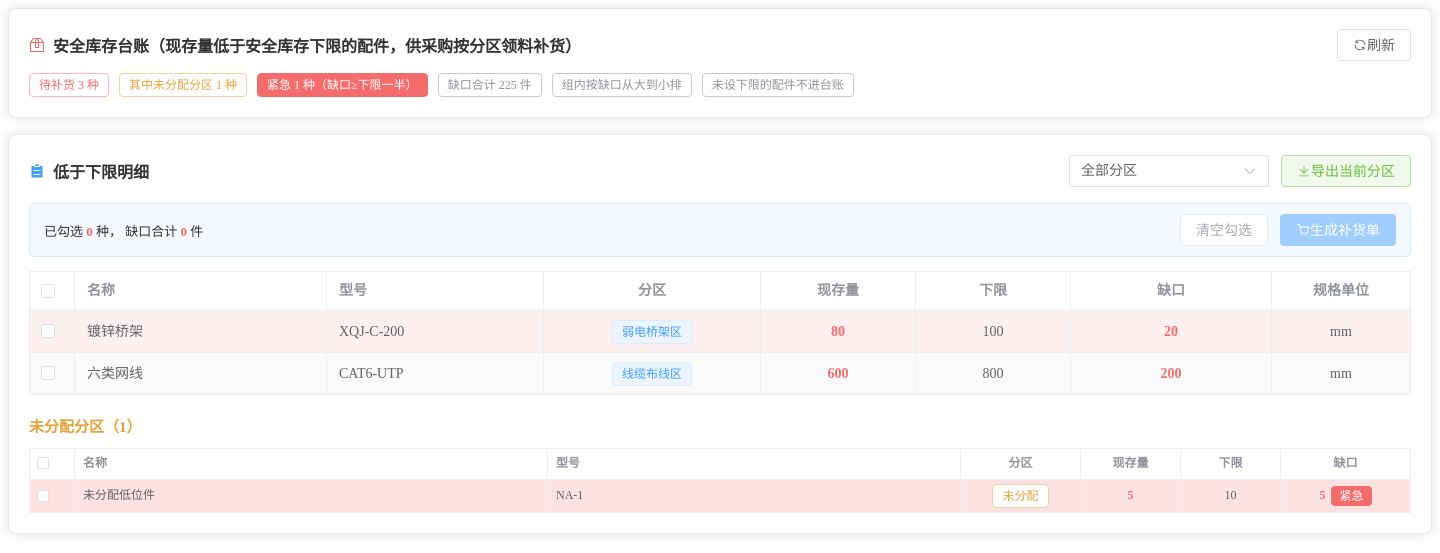
Test: 安全库存台账 - 勾选生成补货单 › 未勾选时生成按钮禁用；勾选后统计种数、缺口合计与分区小计
This screenshot has width=1440, height=553.
Expected: the button "生成补货单" is disabled, [1280, 214, 1396, 246]
# 勾选已分配表两行（桥架、线缆）；只取 tbody 内行首勾选格，避开表头全选
Click the checkbox next to "镀锌桥架": (48, 331) [41, 324, 55, 338]
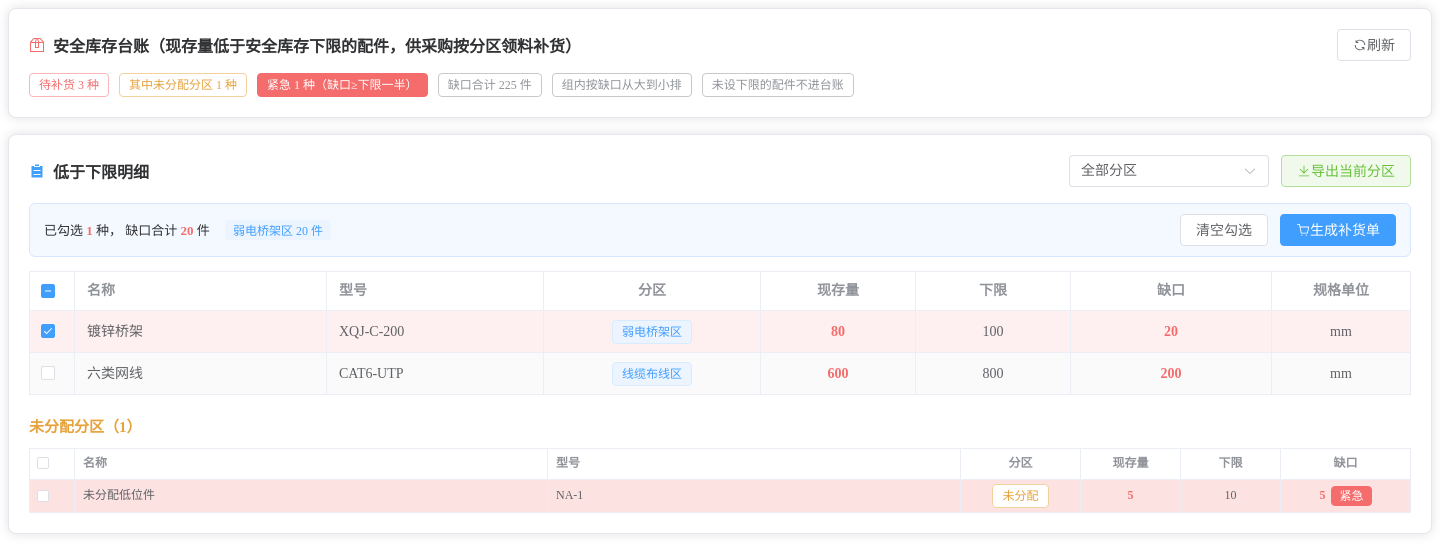
Click the checkbox next to "六类网线": (48, 373) [41, 366, 55, 380]
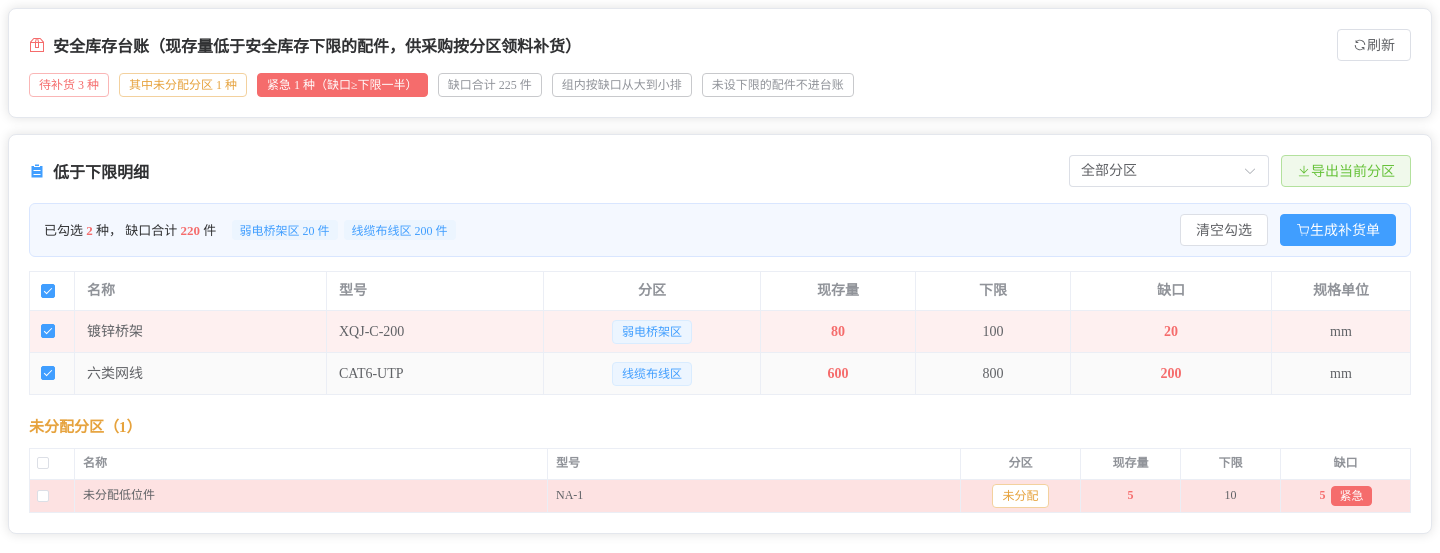
Expected: the element with class "replenish-bar" shows "2", [86, 223, 93, 238]
Expected: the element with class "replenish-bar" shows "弱电桥架区 20 件", [240, 224, 330, 238]
Expected: the element with class "replenish-bar" shows "220", [180, 223, 200, 238]
